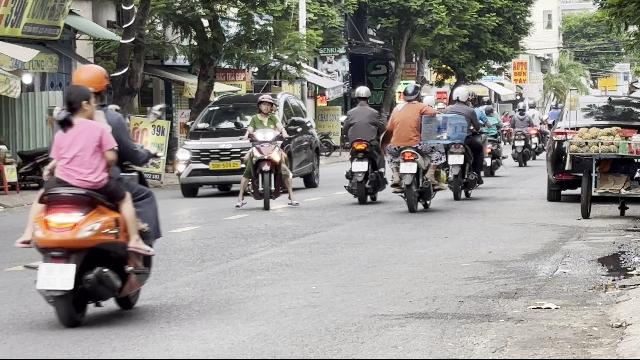helmet: (71, 64, 111, 102), (401, 81, 422, 102), (256, 93, 276, 114), (353, 85, 371, 104), (450, 86, 468, 104)
licenseplate: (36, 263, 76, 289), (399, 162, 416, 174), (352, 161, 368, 171), (448, 155, 464, 165)
motorcyclist: (15, 63, 164, 327), (384, 80, 442, 212), (236, 92, 294, 210), (340, 85, 388, 204), (436, 85, 484, 199)
nohelmet: (61, 83, 95, 121)
